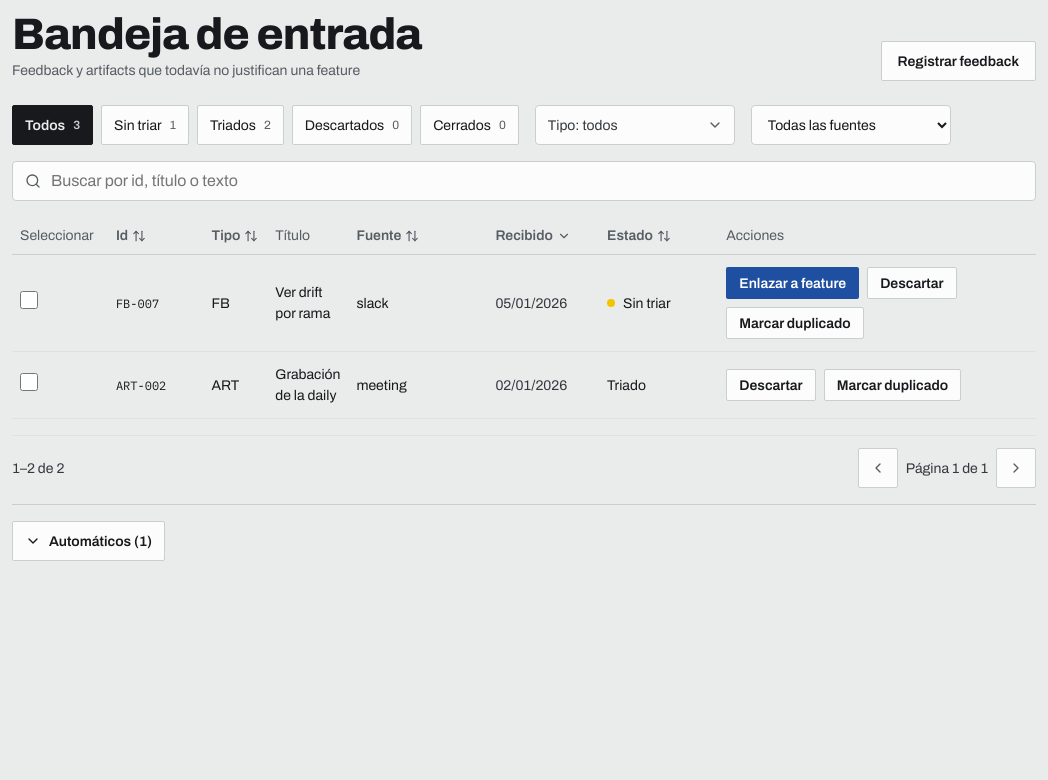
Test case: Entrada › folds agent:* items into a collapsible «Automáticos» block
Expected: the text "FB-007" is shown, [116, 296, 159, 310]
Expected: the text "FB-099" is not shown
What coordinates should you click on to do the following:
click the button "Automáticos (1)"
I would click on:
 (88, 541)
Its box is [12, 521, 165, 561].
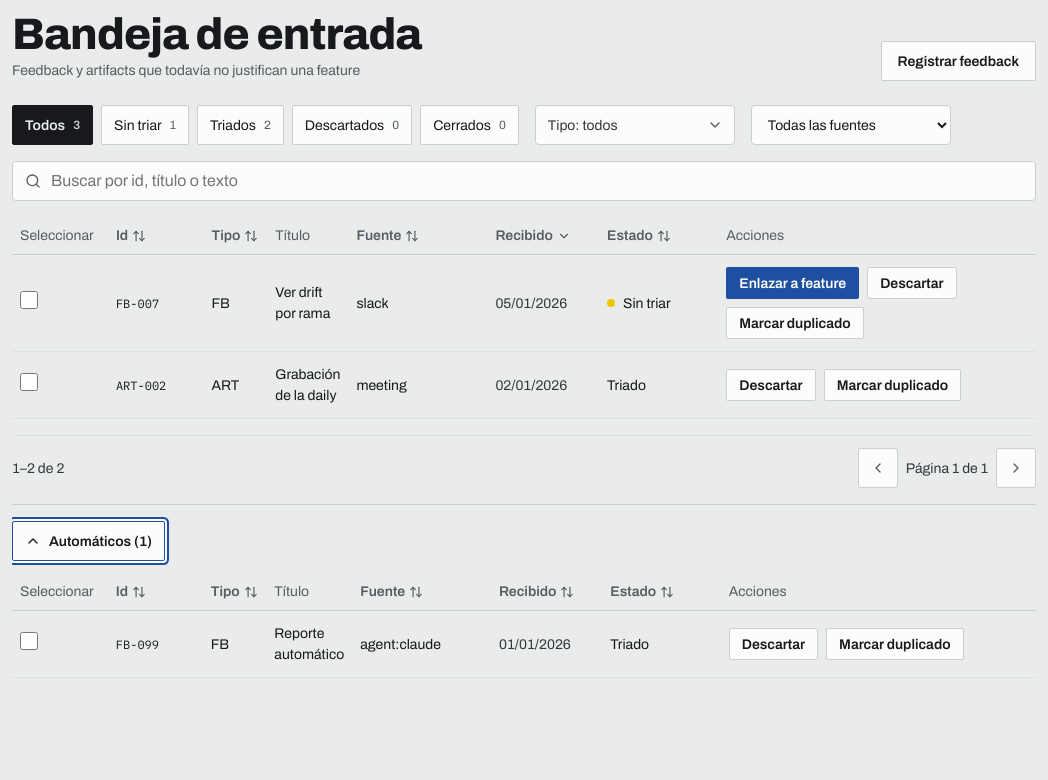
Expected: the text "FB-099" is shown, [116, 636, 159, 652]
